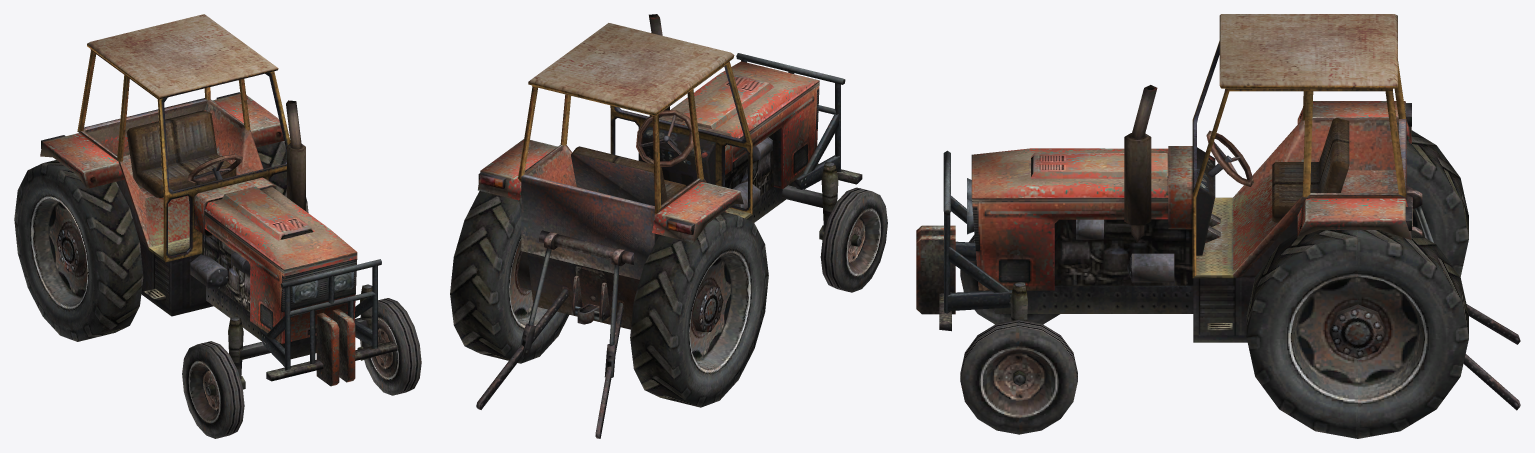
File: tractor.obj
3 views of the same model, side by side, from view 1: azimuth 30°, elevation 25°; view 2: azimuth 150°, elevation 25°; view 3: azimuth 270°, elevation 25° (orthographic). The views are drawn at different scales.
Size of the model in its own units: 4.25 by 5.21 by 8.65.
